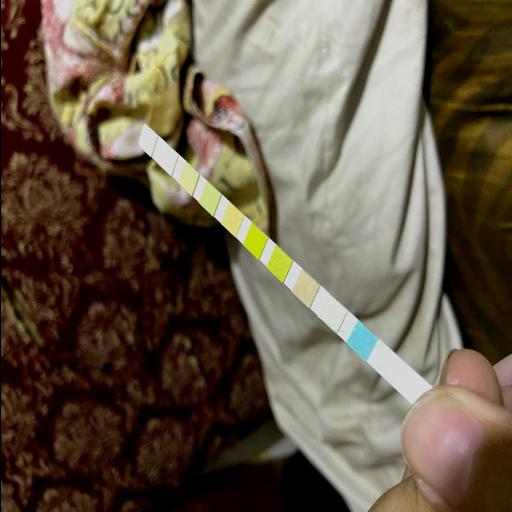Bilirubin: (324, 302, 338, 324)
Blood: (248, 231, 260, 251)
Glucose: (354, 330, 369, 352)
Ketone: (297, 276, 312, 298)
Leukocytes: (142, 130, 152, 150)
Nitrite: (162, 148, 172, 168)
Protein: (202, 187, 214, 209)
SpGravity: (272, 251, 284, 275)
Urobilinogen: (182, 168, 194, 188)
pH: (226, 208, 238, 230)
strip: (139, 124, 423, 404)
